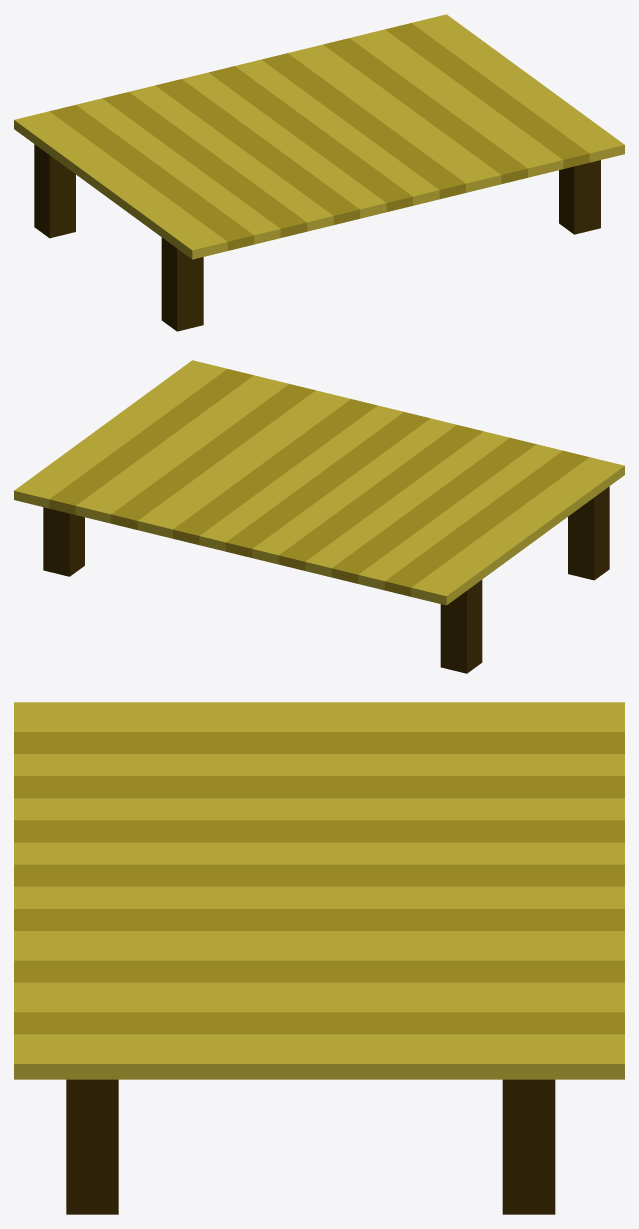
Rendered from harbor.obj.
The picture shows the model from 3 angles, top to bottom: view 1: azimuth 30°, elevation 25°; view 2: azimuth 150°, elevation 25°; view 3: azimuth 270°, elevation 25°; orthographic projection. The views are drawn at different scales.
Bounding box in the file's own units: 49 × 10 × 35.
Materials: 1 (1 with a texture image).
